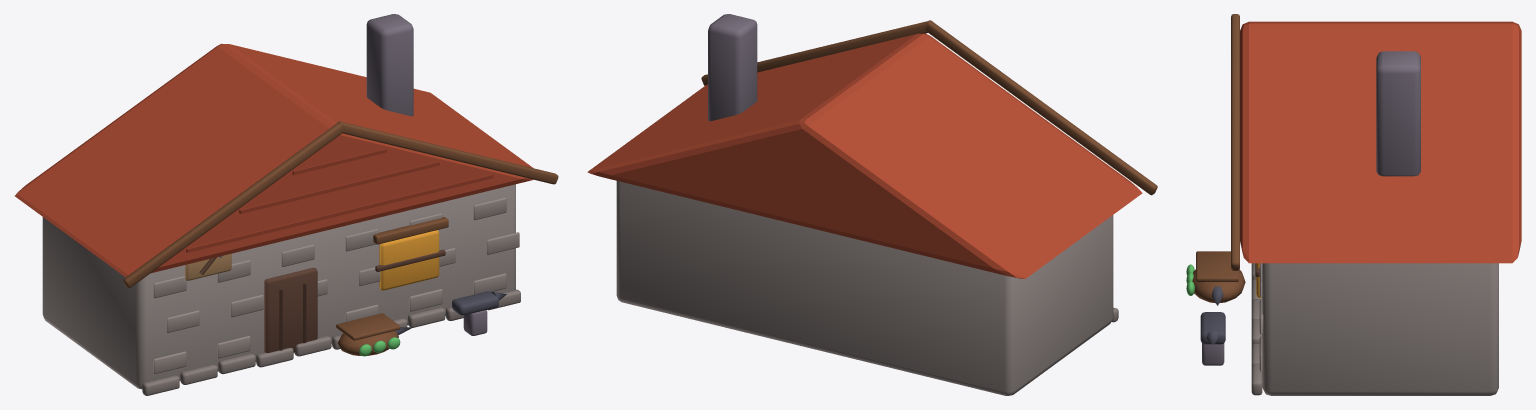
Rendered from forge1.glb.
3 views of the same model, side by side, from view 1: azimuth 30°, elevation 25°; view 2: azimuth 150°, elevation 25°; view 3: azimuth 270°, elevation 25° (orthographic). The views are drawn at different scales.
Parts seen in each view (by area): view 1: oak-roof, stone-walls, oak-door, goo-hearth; view 2: oak-roof, stone-walls; view 3: oak-roof, stone-walls, goo-hearth.
Boxes of the visible parts, <box> form: oak-roof: <box>15,43,558,288</box>; stone-walls: <box>42,14,520,395</box>; oak-door: <box>185,217,448,352</box>; goo-hearth: <box>336,230,445,356</box>; oak-roof: <box>587,20,1157,278</box>; stone-walls: <box>616,14,1118,395</box>; oak-roof: <box>1231,14,1521,270</box>; stone-walls: <box>1200,51,1498,395</box>; goo-hearth: <box>1186,251,1261,305</box>.
Size of the model in its own units: 6.58 by 3.71 by 3.74.
